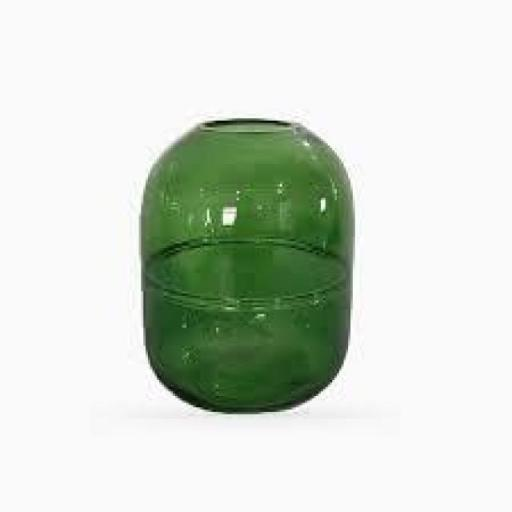glass: (104, 102, 390, 436)
